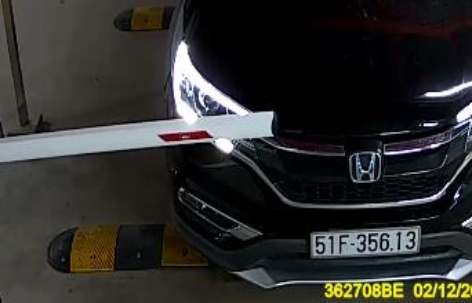plate: (306, 222, 423, 262)
